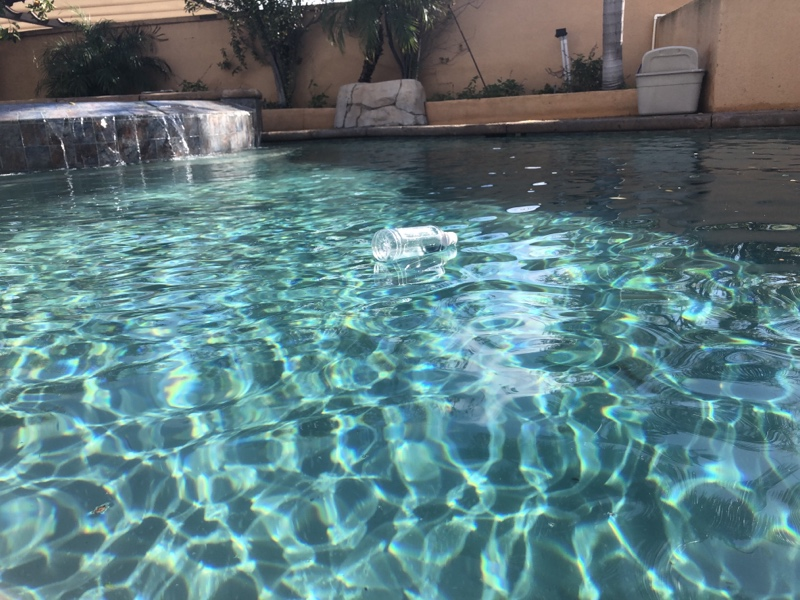Plastic Bottle: (371, 223, 463, 266)
